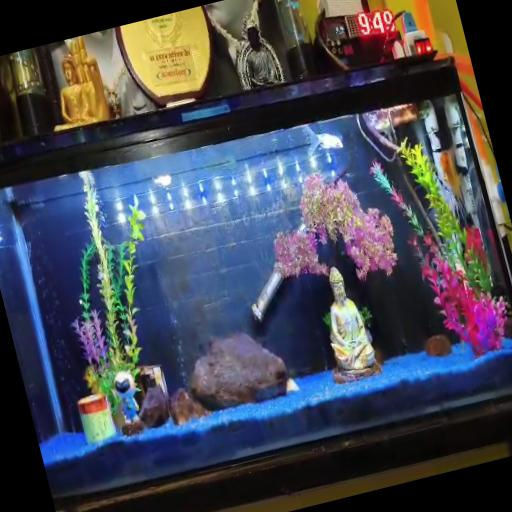Fish: (440, 147, 469, 200), (440, 149, 462, 199), (318, 134, 343, 150)
